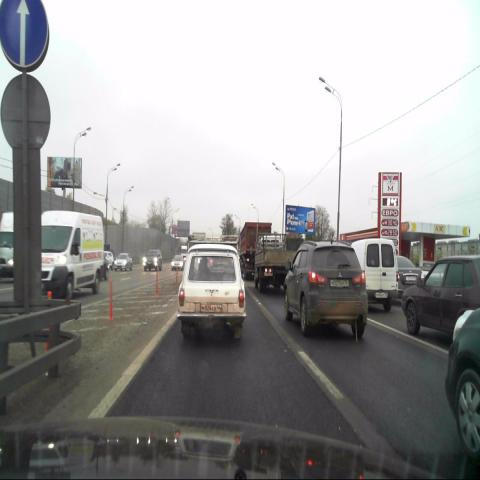4_1_1: (0, 0, 48, 70)
